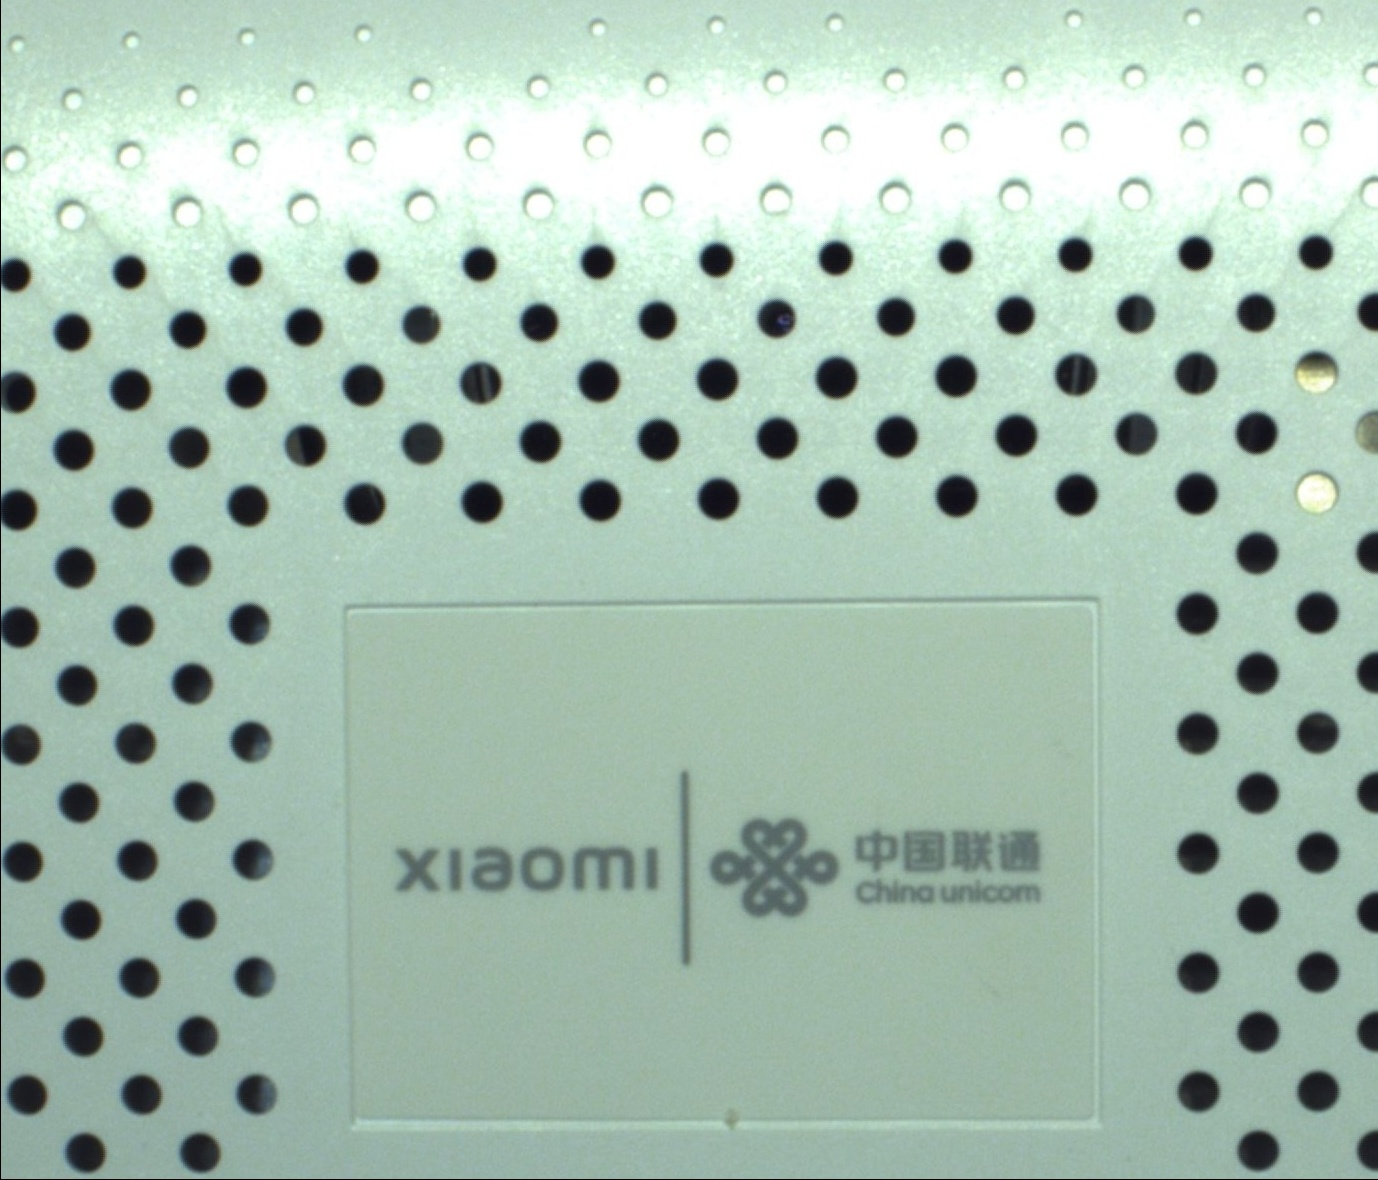MAC_NewUnicom: (366, 759, 1072, 976)
